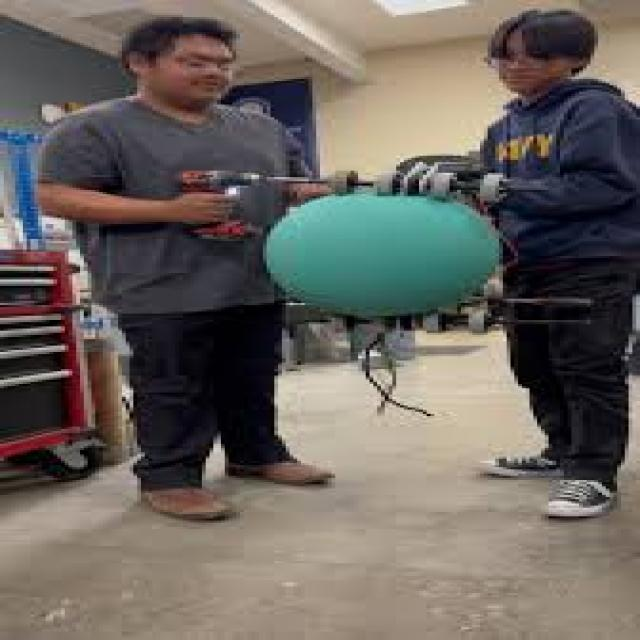algae: (263, 194, 503, 322)
